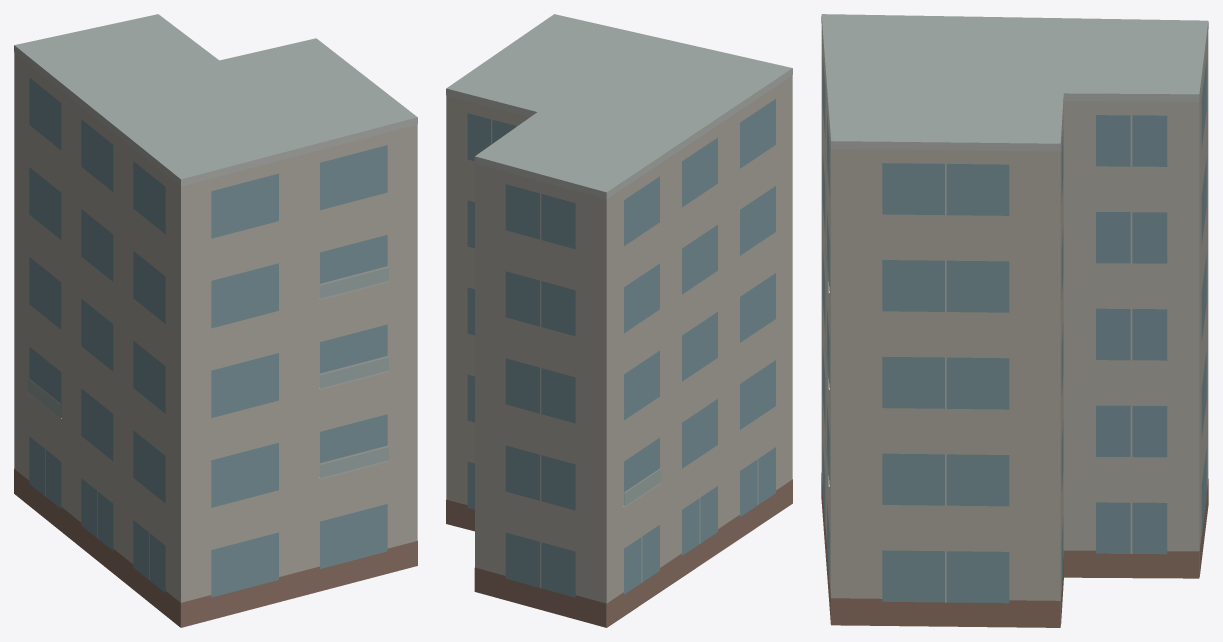
Rendered from survey-upis-32471754.glb.
3 views of the same model, side by side, from view 1: azimuth 30°, elevation 25°; view 2: azimuth 150°, elevation 25°; view 3: azimuth 270°, elevation 25° (orthographic). The views are drawn at different scales.
Parts seen in each view (by area): view 1: survey-upis-32471754.tmp; view 2: survey-upis-32471754.tmp; view 3: survey-upis-32471754.tmp.
Boxes of the visible parts, x1,y1,x2,y2 form: survey-upis-32471754.tmp: (14, 14, 417, 627); survey-upis-32471754.tmp: (446, 14, 792, 627); survey-upis-32471754.tmp: (821, 14, 1208, 627).
Bounding box in the file's own units: 8.74 × 15.2 × 11.02.
